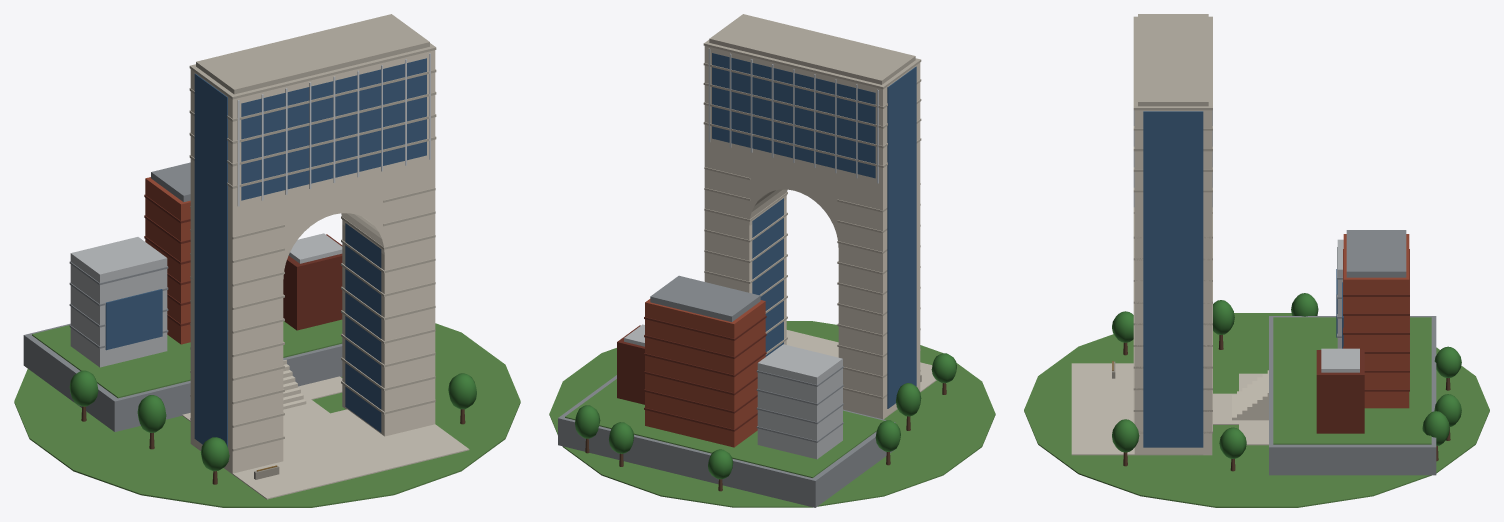
The model's file is hongik-univ.glb.
The picture shows the model from 3 angles, left to right: view 1: azimuth 30°, elevation 25°; view 2: azimuth 150°, elevation 25°; view 3: azimuth 270°, elevation 25°; orthographic projection. The views are drawn at different scales.
Size of the model in its own units: 76.82 by 65.22 by 78.
